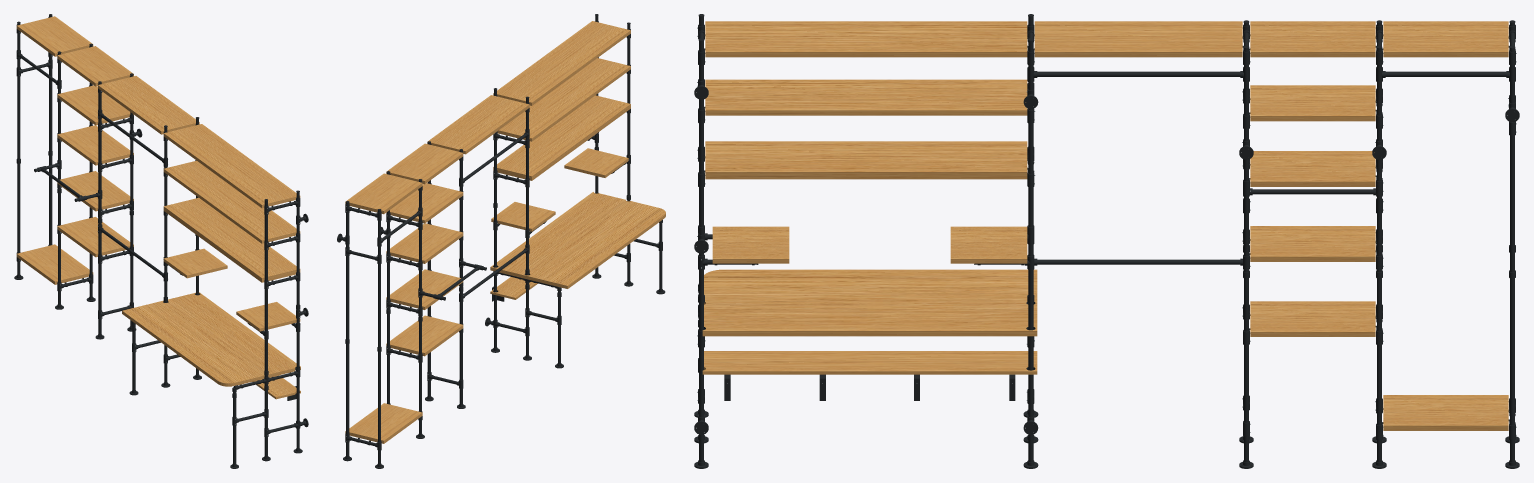
The model's file is assembly.glb.
3 renders of one model, left to right at view 1: azimuth 30°, elevation 25°; view 2: azimuth 150°, elevation 25°; view 3: azimuth 270°, elevation 25°, orthographic. The views are drawn at different scales.
Visible parts, largest first — view 1: Desk.top / Oak cut board, Desk.shelf2 / Oak cut board, Desk.shelf0 / Oak cut board, Desk.shelf1 / Oak cut board, Rack.top0 / Oak cut board, Rack.top1 / Oak cut board, Rack.top2 / Oak cut board, Rack.fold2 / Oak cut board, Rack.coat_shoes / Oak cut board, Rack.fold3 / Oak cut board, Rack.fold0 / Oak cut board, Rack.fold1 / Oak cut board (+14 smaller); view 2: Desk.top / Oak cut board, Desk.shelf2 / Oak cut board, Desk.shelf0 / Oak cut board, Desk.shelf1 / Oak cut board, Rack.top0 / Oak cut board, Rack.top2 / Oak cut board, Rack.top1 / Oak cut board, Rack.coat_shoes / Oak cut board, Rack.fold0 / Oak cut board, Rack.fold2 / Oak cut board, Rack.fold3 / Oak cut board, Rack.fold1 / Oak cut board (+9 smaller); view 3: Desk.top / Oak cut board, Desk.shelf0 / Oak cut board, Desk.shelf2 / Oak cut board, Desk.shelf1 / Oak cut board, Desk.service_shelf / Oak cut board, Rack.top0 / Oak cut board, Rack.fold3 / Oak cut board, Rack.top1 / Oak cut board, Rack.top2 / Oak cut board, Rack.coat_shoes / Oak cut board, Rack.fold0 / Oak cut board, Rack.fold1 / Oak cut board (+8 smaller).
Boxes of the visible parts, x1=… form: Desk.top / Oak cut board: x1=122, y1=292, x2=300, y2=386; Desk.shelf2 / Oak cut board: x1=163, y1=124, x2=300, y2=208; Desk.shelf0 / Oak cut board: x1=163, y1=197, x2=300, y2=282; Desk.shelf1 / Oak cut board: x1=163, y1=160, x2=300, y2=243; Rack.top0 / Oak cut board: x1=98, y1=76, x2=199, y2=134; Rack.top1 / Oak cut board: x1=57, y1=46, x2=133, y2=86; Rack.top2 / Oak cut board: x1=16, y1=16, x2=93, y2=56; Rack.fold2 / Oak cut board: x1=57, y1=125, x2=133, y2=165; Rack.coat_shoes / Oak cut board: x1=16, y1=244, x2=93, y2=284; Rack.fold3 / Oak cut board: x1=57, y1=85, x2=133, y2=125; Rack.fold0 / Oak cut board: x1=57, y1=217, x2=133, y2=257; Rack.fold1 / Oak cut board: x1=57, y1=171, x2=133, y2=211; Desk.top / Oak cut board: x1=490, y1=192, x2=665, y2=288; Desk.shelf2 / Oak cut board: x1=493, y1=21, x2=630, y2=105; Desk.shelf0 / Oak cut board: x1=493, y1=95, x2=630, y2=180; Desk.shelf1 / Oak cut board: x1=497, y1=58, x2=630, y2=141; Rack.top0 / Oak cut board: x1=427, y1=95, x2=529, y2=154; Rack.top2 / Oak cut board: x1=345, y1=173, x2=422, y2=214; Rack.top1 / Oak cut board: x1=386, y1=143, x2=463, y2=184; Rack.coat_shoes / Oak cut board: x1=345, y1=403, x2=422, y2=443; Rack.fold0 / Oak cut board: x1=386, y1=315, x2=463, y2=356; Rack.fold2 / Oak cut board: x1=386, y1=223, x2=463, y2=263; Rack.fold3 / Oak cut board: x1=386, y1=183, x2=463, y2=223; Rack.fold1 / Oak cut board: x1=386, y1=269, x2=463, y2=309; Desk.top / Oak cut board: x1=702, y1=269, x2=1037, y2=336; Desk.shelf0 / Oak cut board: x1=705, y1=141, x2=1027, y2=179; Desk.shelf2 / Oak cut board: x1=705, y1=21, x2=1027, y2=57; Desk.shelf1 / Oak cut board: x1=705, y1=79, x2=1027, y2=115; Desk.service_shelf / Oak cut board: x1=702, y1=351, x2=1037, y2=374; Rack.top0 / Oak cut board: x1=1034, y1=21, x2=1242, y2=57; Rack.fold3 / Oak cut board: x1=1250, y1=85, x2=1375, y2=121; Rack.top1 / Oak cut board: x1=1250, y1=21, x2=1375, y2=57; Rack.top2 / Oak cut board: x1=1383, y1=21, x2=1508, y2=57; Rack.coat_shoes / Oak cut board: x1=1383, y1=395, x2=1508, y2=430; Rack.fold0 / Oak cut board: x1=1250, y1=301, x2=1375, y2=336; Rack.fold1 / Oak cut board: x1=1250, y1=226, x2=1375, y2=261.
Bounding box in the file's own units: 0.748 × 2.27 × 3.98.
3 materials, 1 textured.
